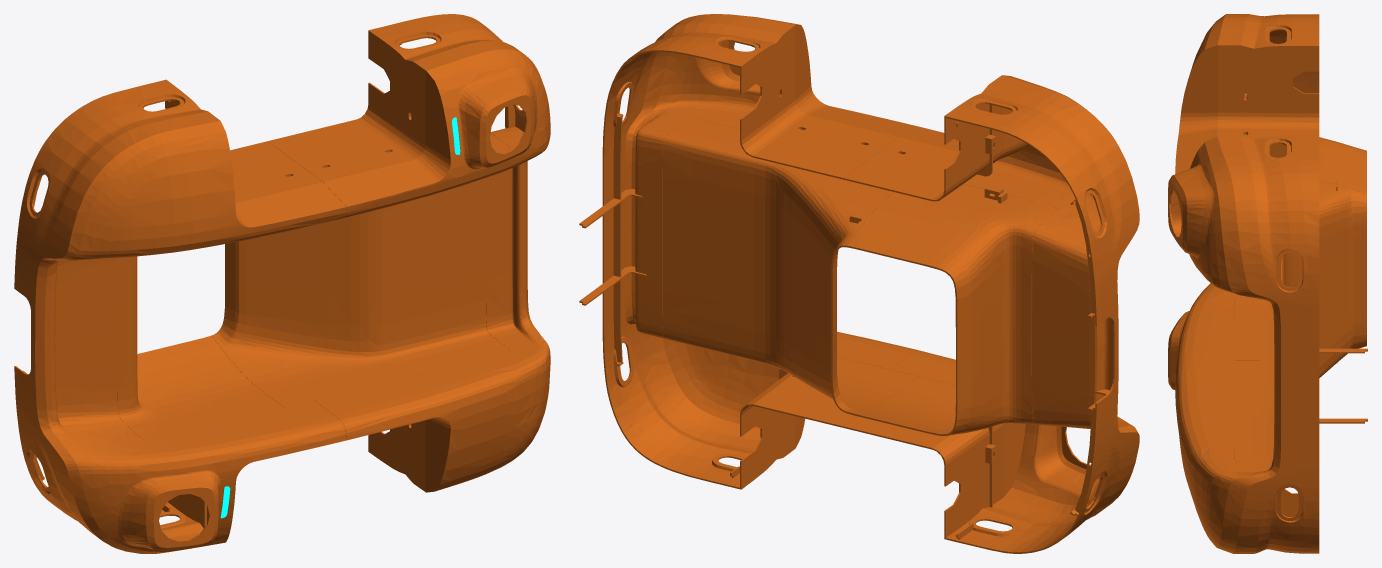
File: shell_default.glb
The picture shows the model from 3 angles, left to right: view 1: azimuth 30°, elevation 25°; view 2: azimuth 150°, elevation 25°; view 3: azimuth 270°, elevation 25°; orthographic projection. The views are drawn at different scales.
Parts seen in each view (by area): view 1: front shell, back shell, back inner shell, front inner shell; view 2: back shell, front shell, back inner shell, front inner shell; view 3: back shell, front shell, back inner shell, front inner shell.
Part boxes in pixels (x1,y1,x2,y2): front shell: (14,79,346,553); back shell: (267,14,550,492); back inner shell: (211,133,509,407); front inner shell: (117,256,284,439); back shell: (579,14,921,489); front shell: (843,75,1139,553); back inner shell: (662,118,918,412); front inner shell: (846,184,1056,435); back shell: (1168,135,1367,553); front shell: (1168,14,1319,393); back inner shell: (1234,181,1366,461); front inner shell: (1234,137,1366,360).
Bounding box in the file's own units: 0.6695 × 0.5476 × 0.2587.
